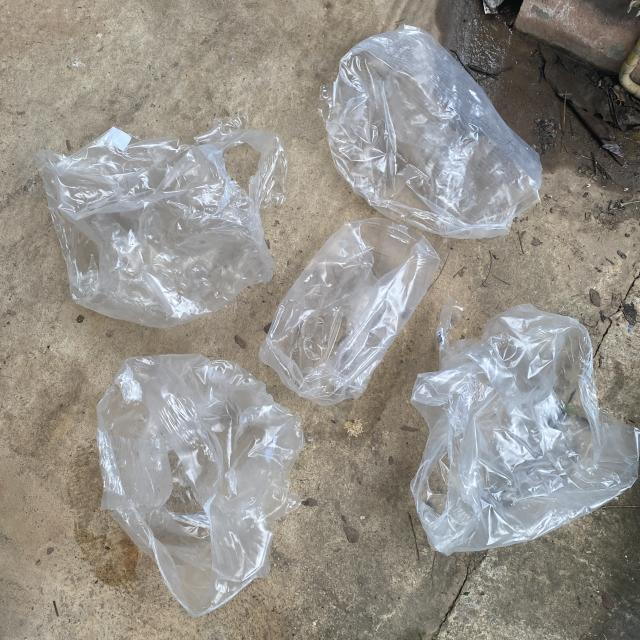Single-layer Plastic: (411, 299, 640, 555), (98, 355, 304, 616), (36, 116, 288, 329), (320, 25, 542, 239), (259, 219, 439, 405)
